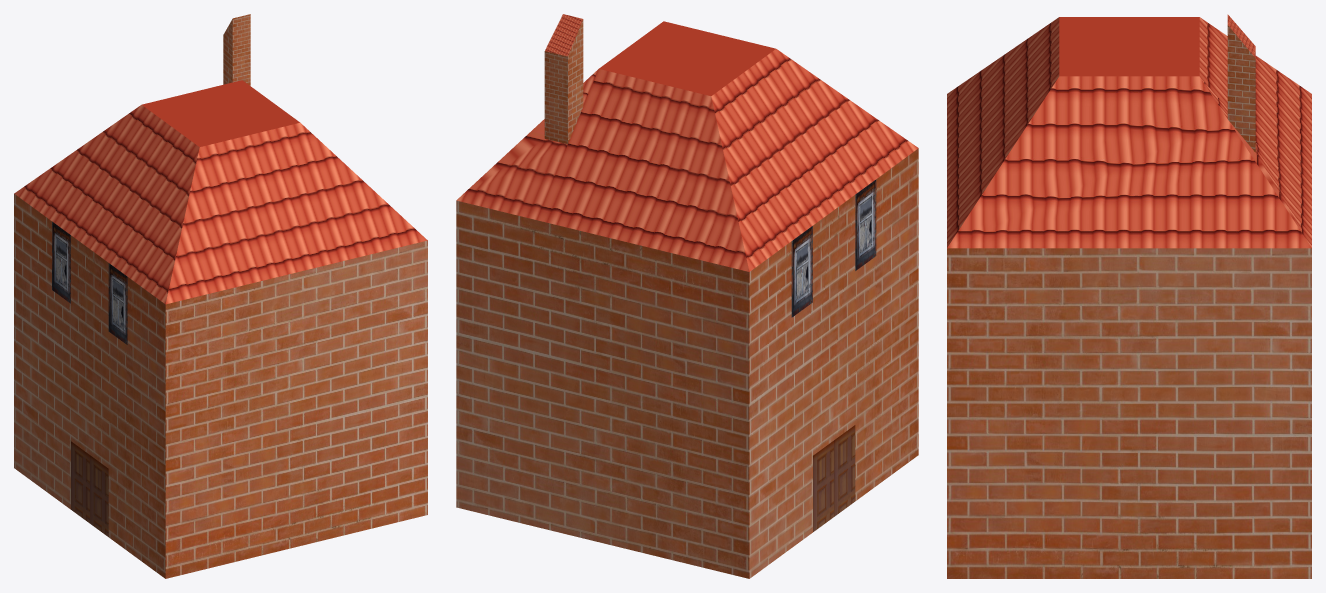
Rendered from casa.obj.
3 renders of one model, left to right at view 1: azimuth 30°, elevation 25°; view 2: azimuth 150°, elevation 25°; view 3: azimuth 270°, elevation 25°, orthographic. The views are drawn at different scales.
Parts seen in each view (by area): view 1: Cube; view 2: Cube; view 3: Cube.
Part boxes in pixels (left/top/right/bottom): Cube: left=14, top=14, right=427, bottom=578; Cube: left=456, top=14, right=918, bottom=578; Cube: left=947, top=14, right=1311, bottom=578.
Bounding box in the file's own units: 2 × 3.14 × 2.
